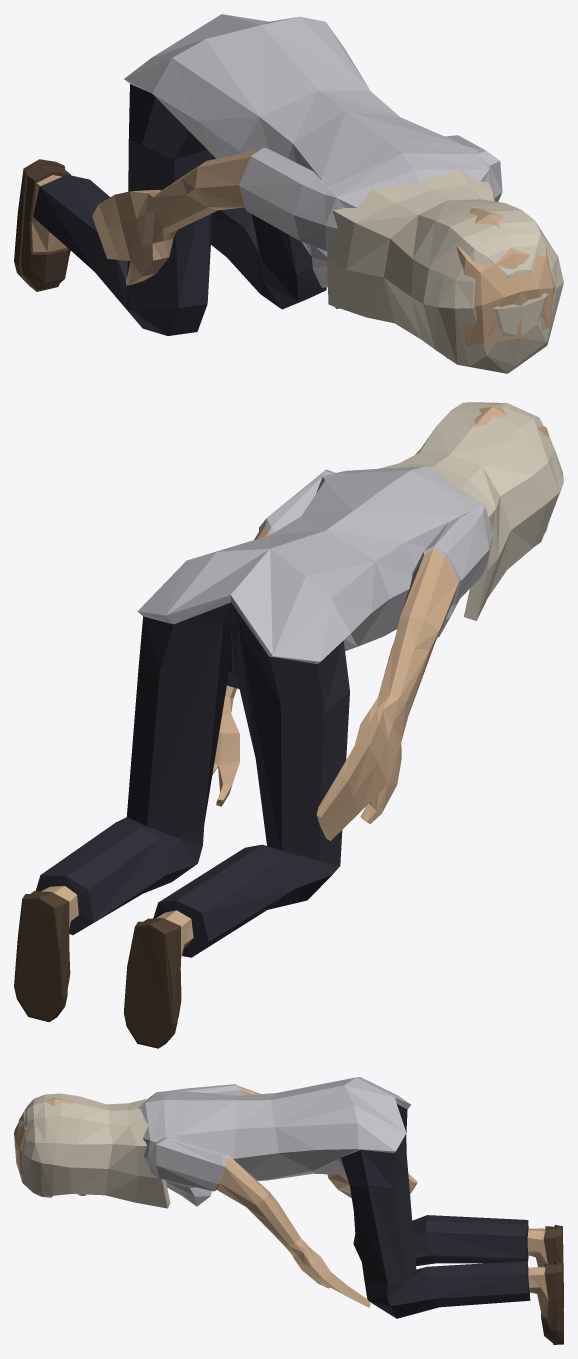
File: woman-sitting.obj
3 renders of one model, top to bottom at view 1: azimuth 30°, elevation 25°; view 2: azimuth 150°, elevation 25°; view 3: azimuth 270°, elevation 25°, orthographic. The views are drawn at different scales.
Visible parts, largest first — view 1: woman-sitting; view 2: woman-sitting; view 3: woman-sitting.
Part boxes in pixels (x1,y1,x2,y2): woman-sitting: (14,14,563,373); woman-sitting: (14,402,563,1048); woman-sitting: (14,1077,563,1344).
Bounding box in the file's own units: 17.95 × 24.82 × 52.31.
